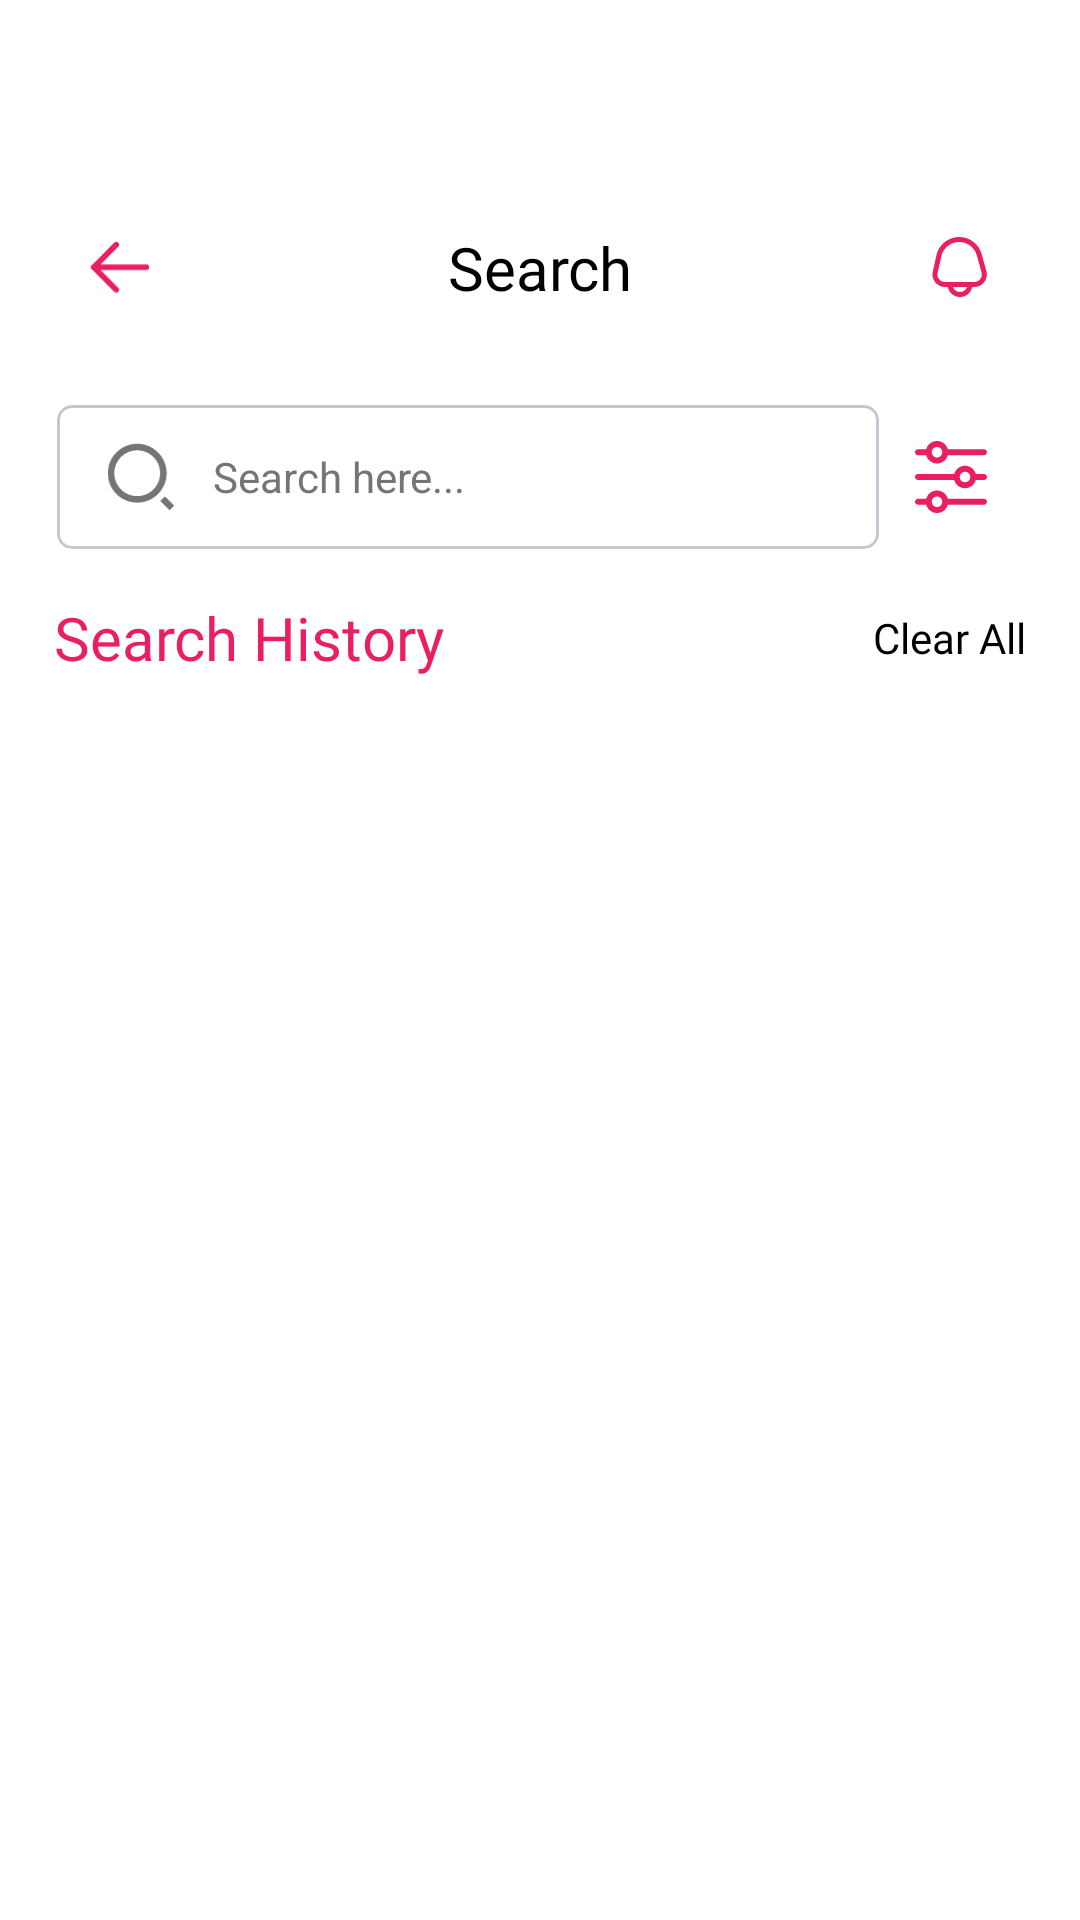

Locate icon controls on the screen. Image size 1080 x 1920, boxes as region(x1, y1, x2, y2).
filter: region(915, 441, 987, 513)
left: region(90, 241, 149, 294)
notification: region(932, 237, 987, 297)
